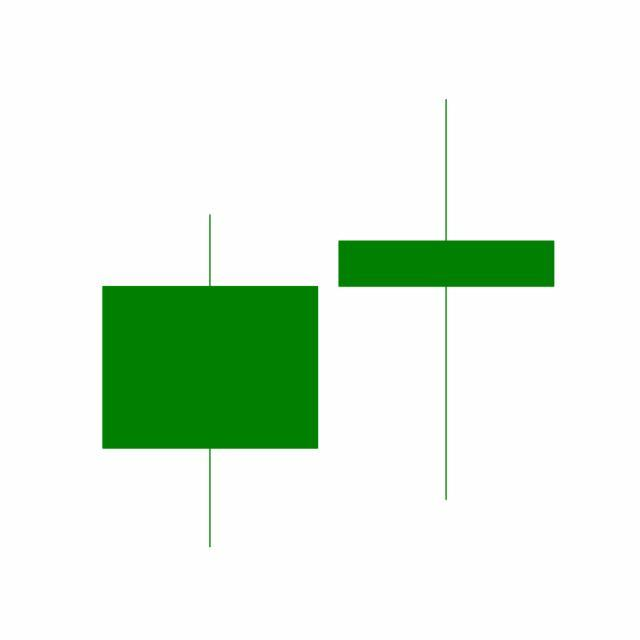Spinning Top: (328, 96, 566, 505)
